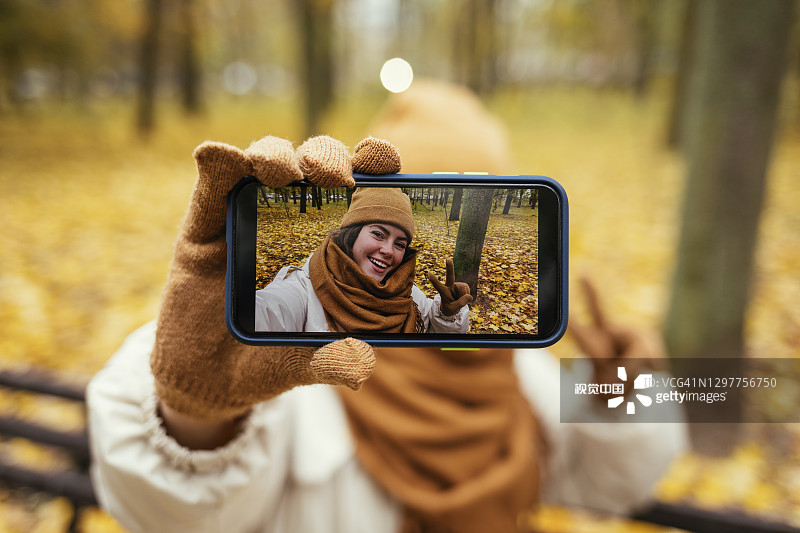taking photos: (144, 116, 575, 463)
